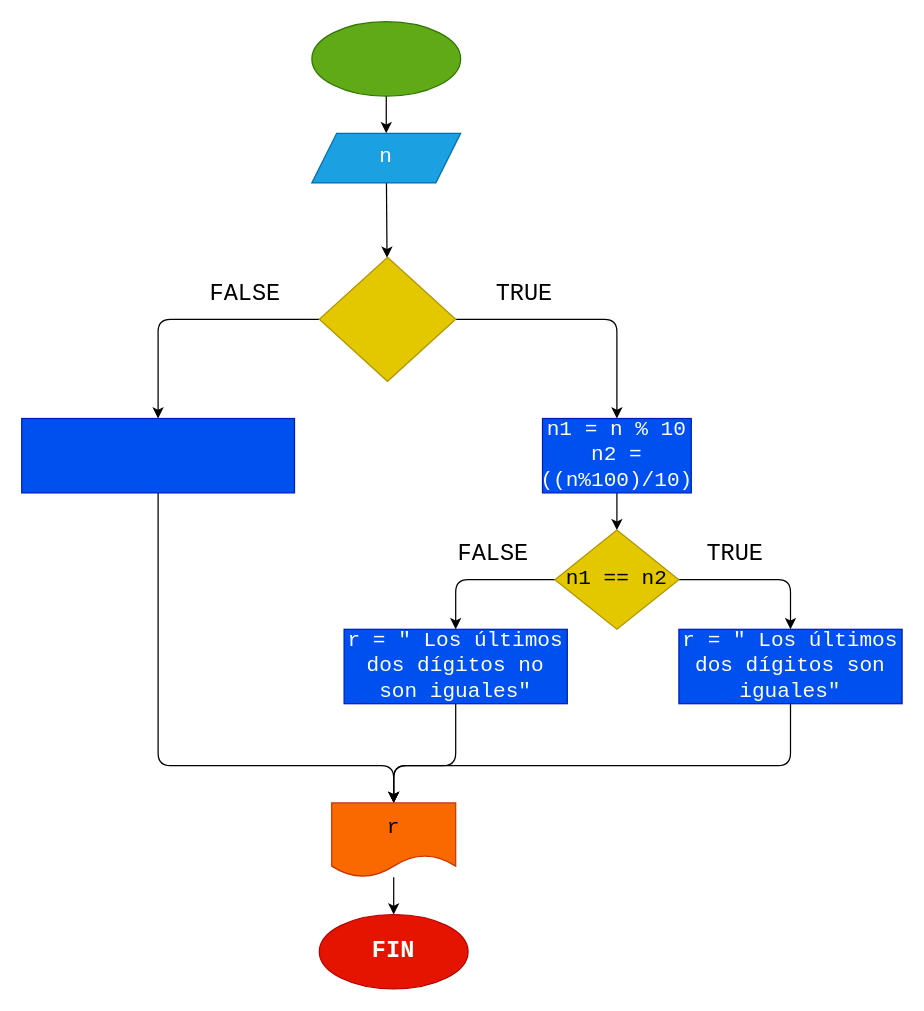
The diagram is 924 pixels wide and 1011 high, and some of its shapes have lost their labels. Each missing label, with the centre of its shape:
INICIO: (x=386, y=58)
n > 9 or n < -9: (x=387, y=318)
r = " El número entero no tiene más de dos dígitos": (x=157, y=455)
